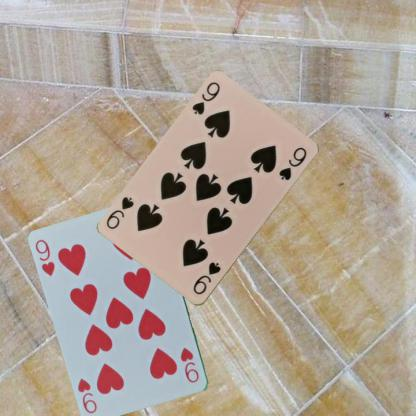9h: (33, 237, 57, 277), (178, 344, 200, 385)
9s: (188, 79, 222, 117), (190, 260, 223, 296)
